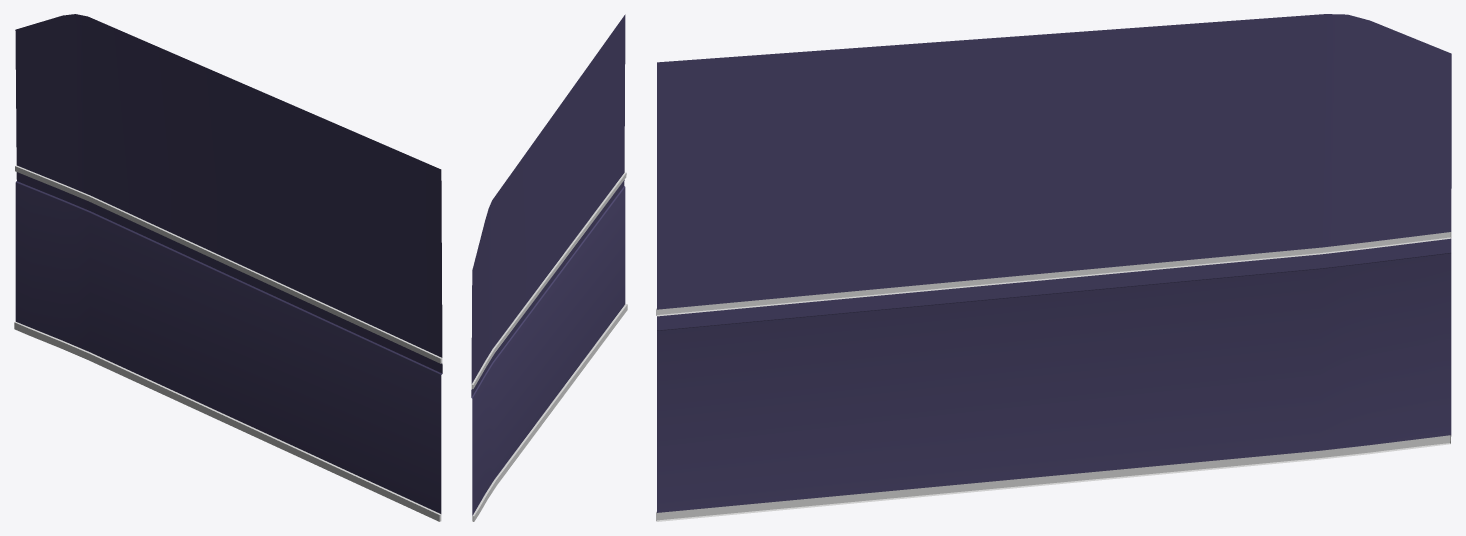
The model's file is Mh_Wall_02_R.fbx.
The picture shows the model from 3 angles, left to right: view 1: azimuth 30°, elevation 25°; view 2: azimuth 150°, elevation 25°; view 3: azimuth 270°, elevation 25°; orthographic projection. The views are drawn at different scales.
Parts seen in each view (by area): view 1: Mh_Wall_02_R; view 2: Mh_Wall_02_R; view 3: Mh_Wall_02_R.
Boxes of the visible parts, bbox=[...] form: Mh_Wall_02_R: bbox=[14, 14, 442, 521]; Mh_Wall_02_R: bbox=[471, 14, 627, 521]; Mh_Wall_02_R: bbox=[656, 14, 1451, 521].
Size of the model in its own units: 371 by 998 by 1566.
